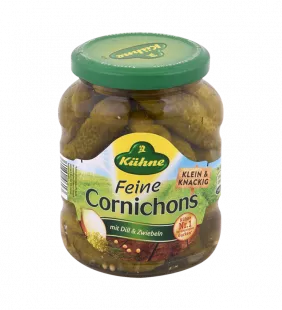KÜHNE: (52, 20, 235, 284)
